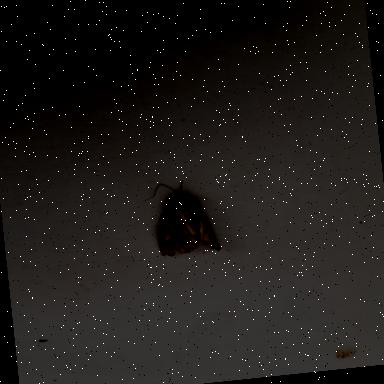abw: (146, 178, 220, 259)
